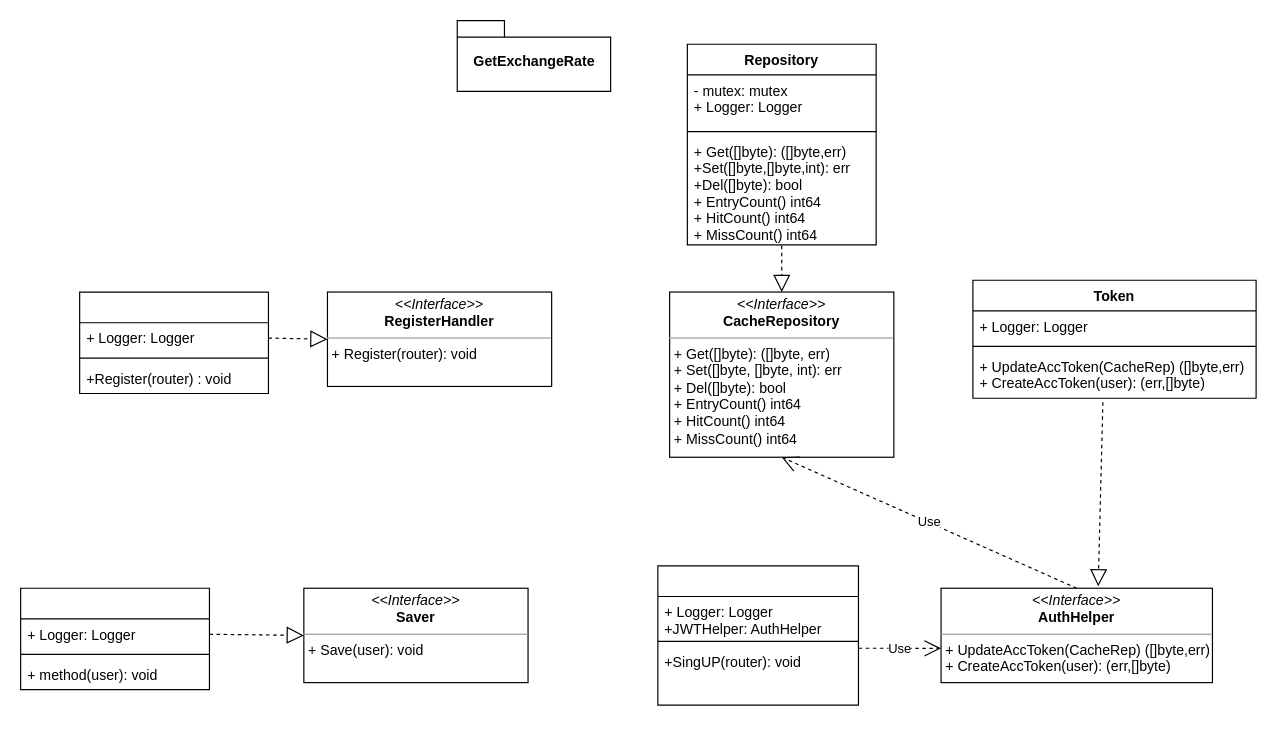
This 1277x729 diagram has some shape labels left out. Each missing label, with the box of its shape:
AuthHandler: (657, 565, 858, 705)
FileSystemSave: (19, 587, 209, 690)
Handler: (78, 291, 268, 394)
